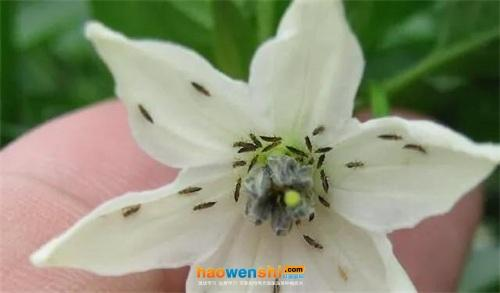thrips: (232, 133, 261, 154), (137, 102, 155, 124), (301, 234, 324, 250), (190, 80, 210, 97), (402, 142, 428, 155), (192, 199, 218, 211), (232, 176, 243, 202), (343, 159, 367, 169), (319, 169, 329, 192), (248, 154, 260, 173), (262, 141, 281, 153), (178, 185, 203, 194), (317, 194, 333, 208), (377, 133, 404, 140), (260, 134, 283, 142), (304, 135, 314, 152), (316, 154, 327, 168), (314, 146, 335, 153)
